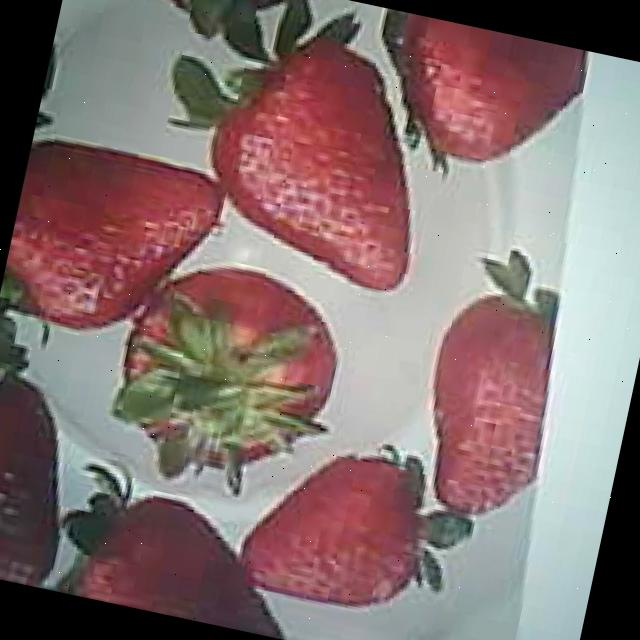strawberry: (185, 24, 446, 296), (0, 131, 228, 358), (406, 275, 577, 527), (232, 434, 441, 622)
